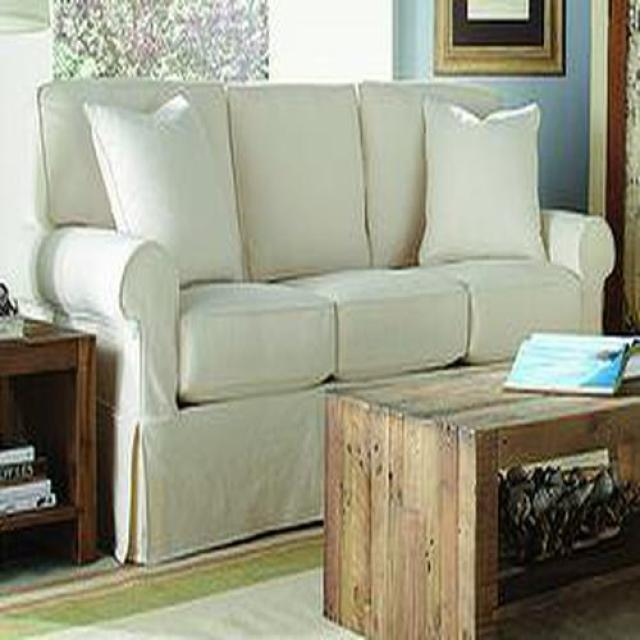sofa: (37, 79, 616, 567)
